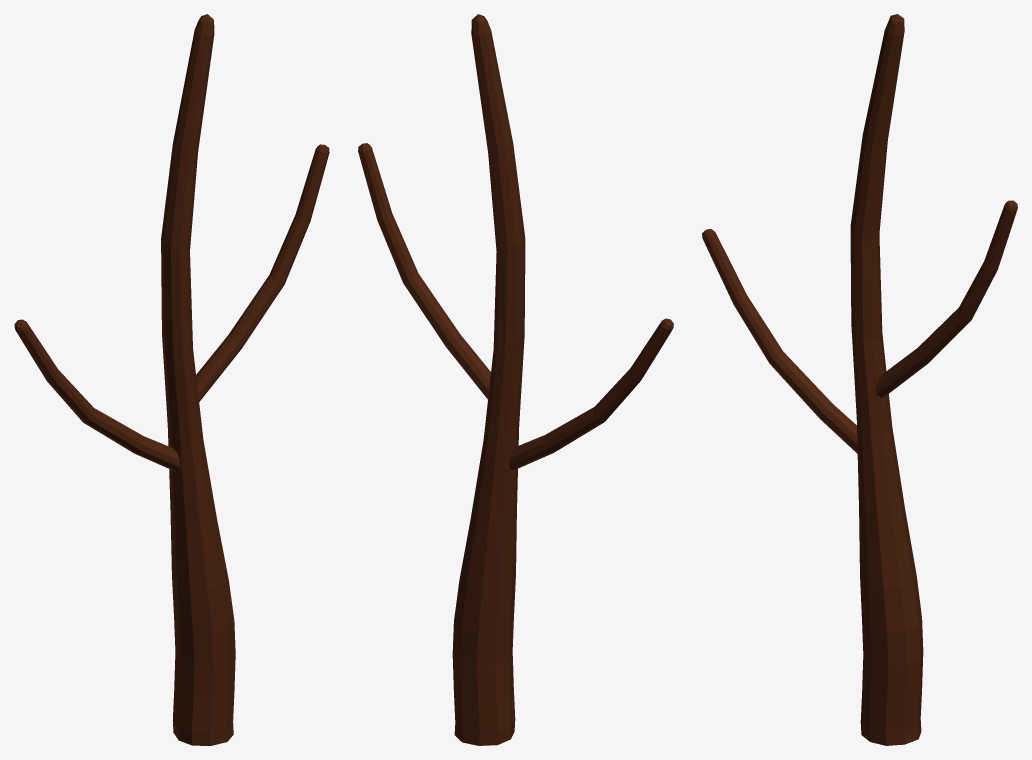
Rendered from Tree3.obj.
3 views of the same model, side by side, from view 1: azimuth 30°, elevation 25°; view 2: azimuth 150°, elevation 25°; view 3: azimuth 330°, elevation 25° (orthographic).
Visible parts, largest first — view 1: Tree3.010; view 2: Tree3.010; view 3: Tree3.010.
Boxes of the visible parts, left/top/right/bottom form: Tree3.010: left=14, top=14, right=329, bottom=745; Tree3.010: left=358, top=14, right=673, bottom=745; Tree3.010: left=702, top=14, right=1017, bottom=745.
Bounding box in the file's own units: 2.15 × 4.74 × 0.3458.
